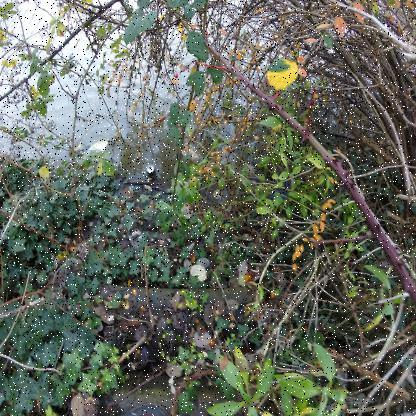metal: (146, 164, 156, 180)
